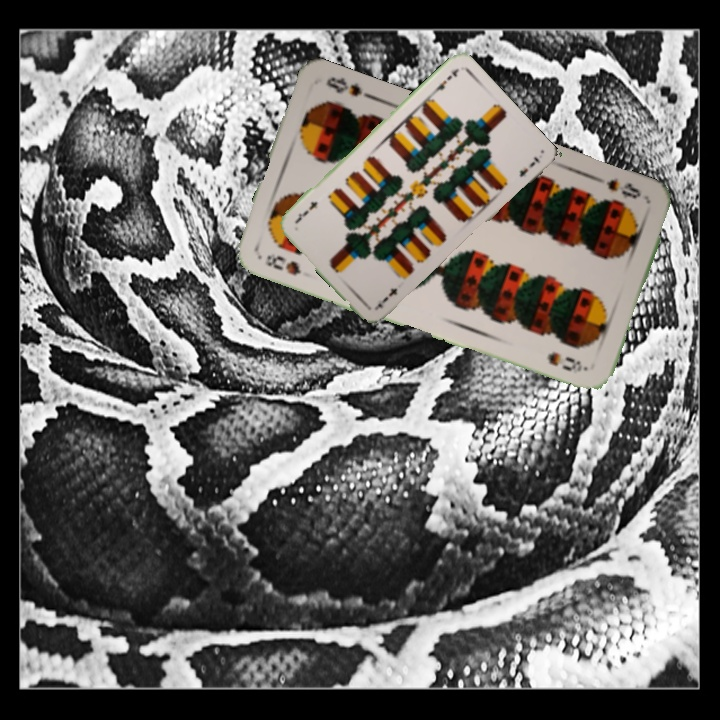E7: (428, 65, 461, 97), (371, 284, 400, 312)
S8: (260, 249, 304, 278), (602, 173, 644, 201)
